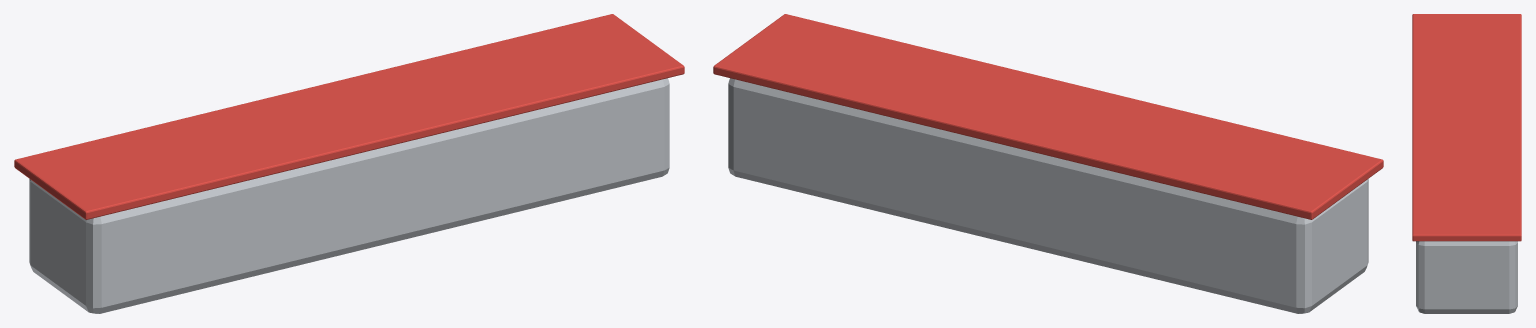
Rendered from Skate_Ledge.fbx.
3 views of the same model, side by side, from view 1: azimuth 30°, elevation 25°; view 2: azimuth 150°, elevation 25°; view 3: azimuth 270°, elevation 25° (orthographic). The views are drawn at different scales.
Parts seen in each view (by area): view 1: Ledge; view 2: Ledge; view 3: Ledge.
Part boxes in pixels (x1,y1,x2,y2): Ledge: (14, 14, 684, 313); Ledge: (713, 14, 1383, 313); Ledge: (1412, 14, 1521, 313).
Size of the model in its own units: 3.6 by 0.645 by 0.75.
